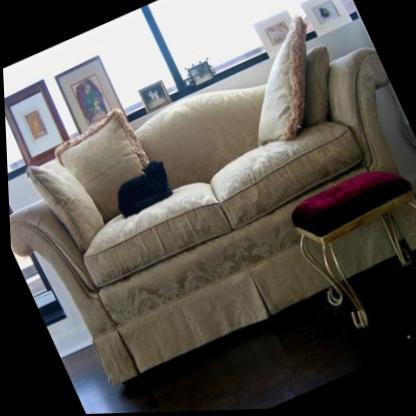Sofa: (1, 20, 416, 404)
Table: (283, 174, 416, 340)
